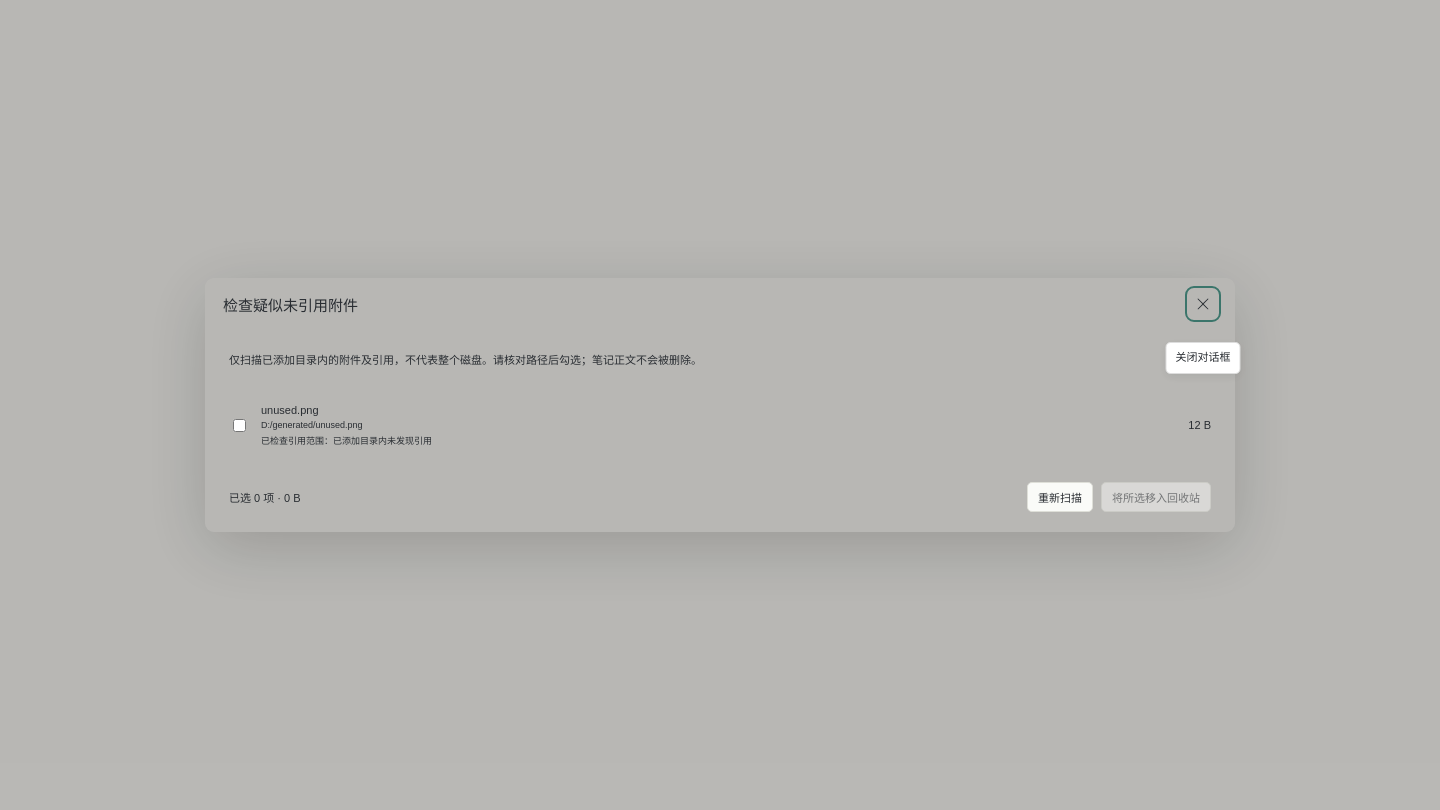
Scenario: does not leave a stale deletion selection available after a failed rescan
Click the checkbox labelled "unused.png D:/generated/unused.png 已检查引用范围：已添加目录内未发现引用 12 B" at (240, 425), box [233,419,246,432]
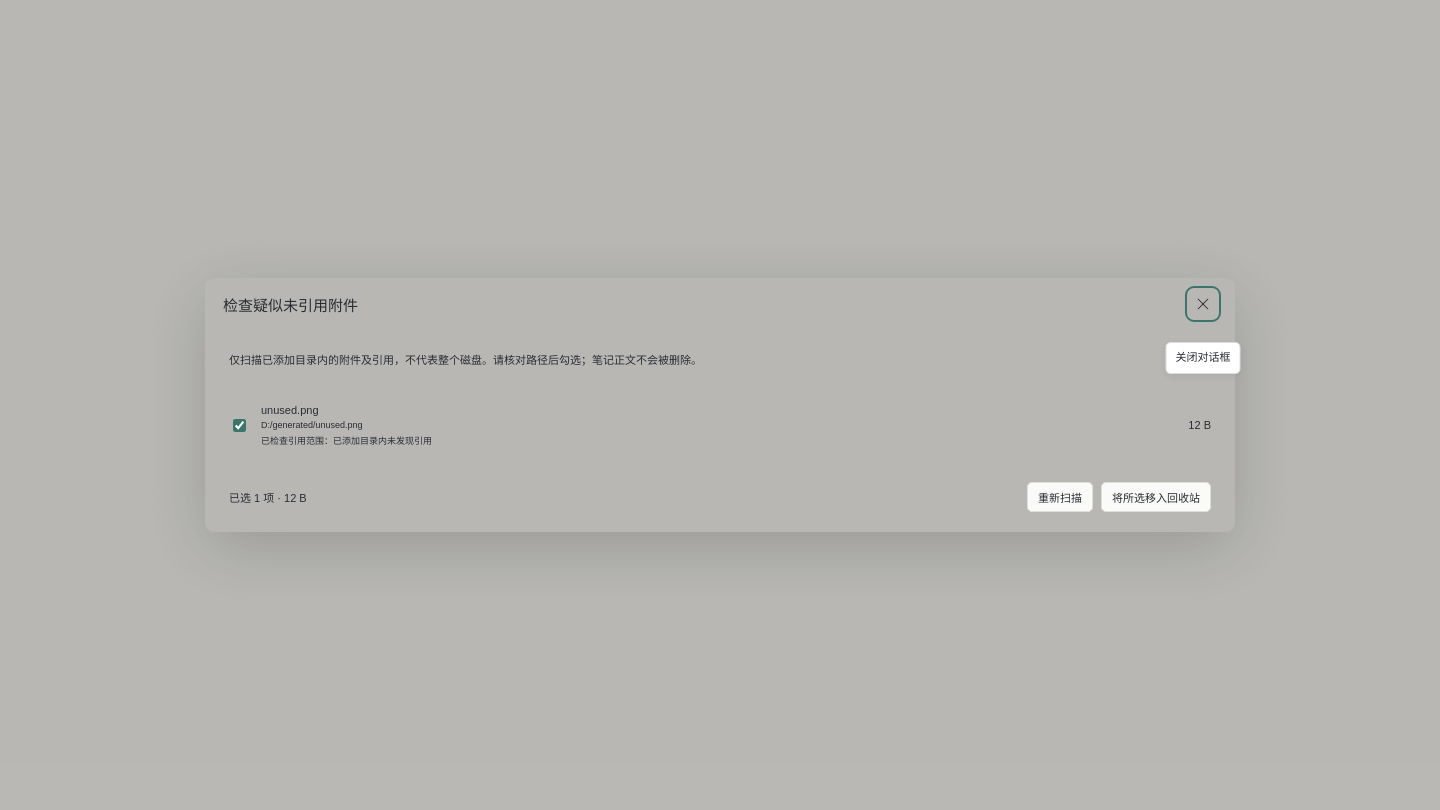
Click the button "重新扫描" at (1060, 497), box [1027,482,1093,512]
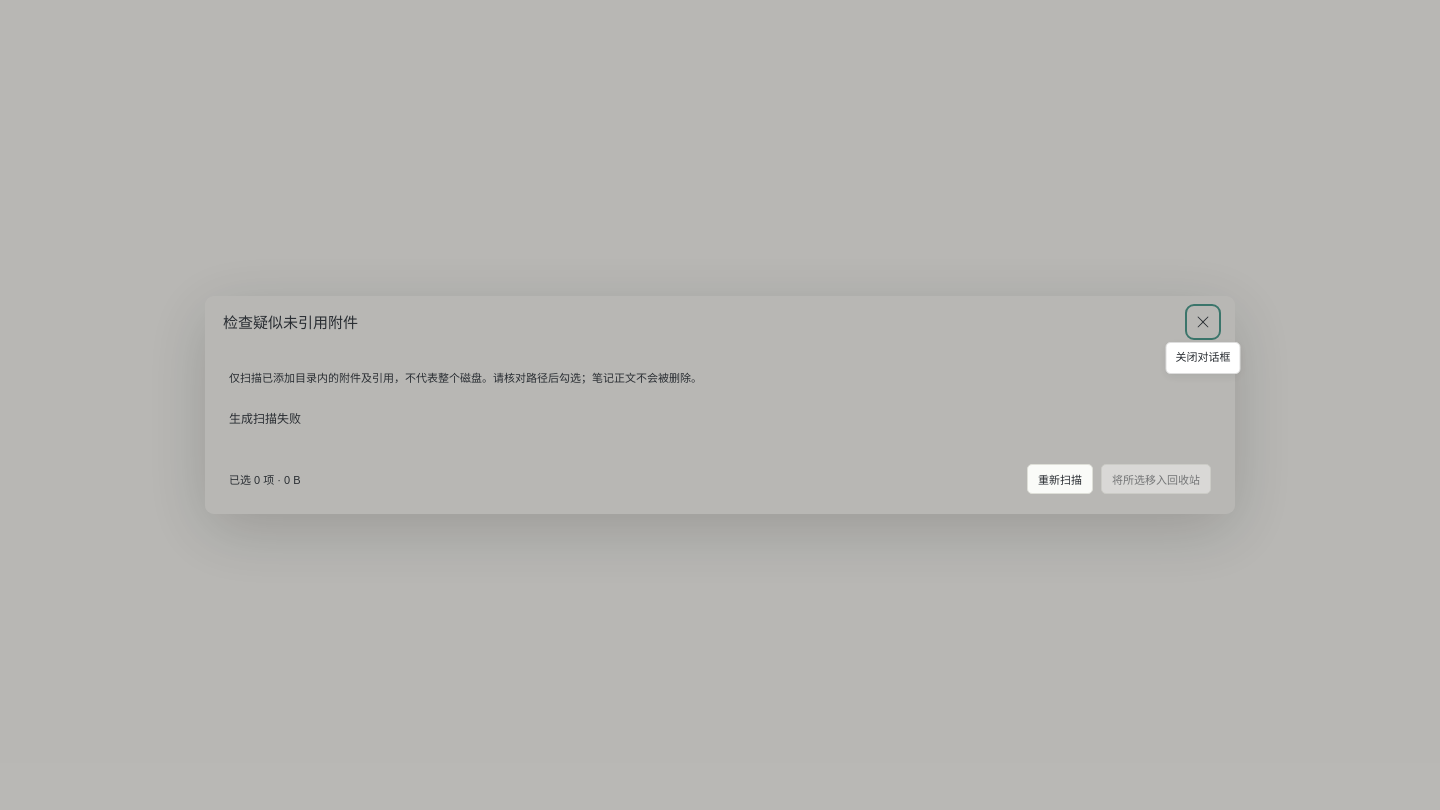
Check: the text "生成扫描失败" is shown, box [229,412,301,426]
Check: the text "已选 0 项" is shown, box [229,471,300,487]
Check: the button "将所选移入回收站" is disabled, box [1101,464,1211,494]
